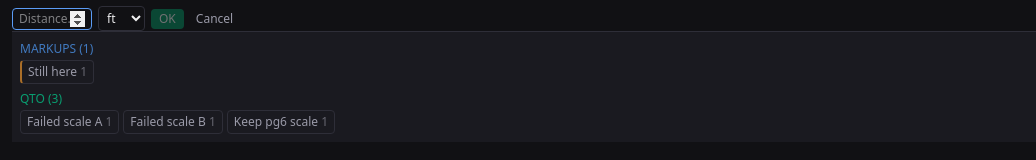
Test case: CalibrationInput annotation replacement freeze › surfaces the shell error message and keeps local rows plus the calibration gesture on POST failure
Step 1. Type "10" into the number field with placeholder "Distance..." → (52, 18), box [12,8,92,30]
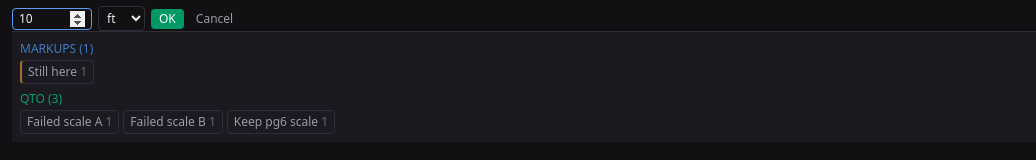
Step 2. Click the button "OK" → click(167, 18), box [151,8,184,28]
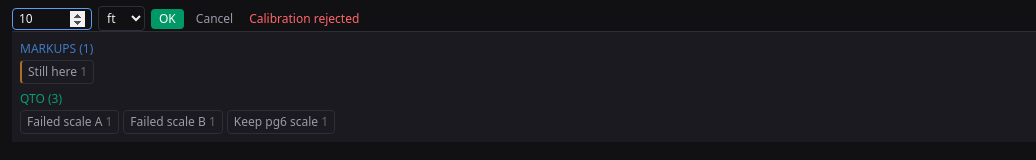
expect the button "Failed scale A 1" is shown: met, box [20,110,119,134]
expect the button "OK" is enabled: met, box [151,8,184,28]
expect the text "Calibration rejected" is shown: met, box [249,10,359,28]
